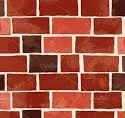brick: (51, 17, 92, 35), (51, 91, 91, 109), (74, 36, 115, 53), (12, 17, 50, 35), (38, 73, 77, 90), (83, 54, 119, 72), (12, 91, 50, 108), (39, 1, 78, 16), (29, 54, 58, 72), (43, 35, 73, 52), (7, 73, 37, 90), (79, 73, 109, 90), (93, 92, 123, 109), (1, 55, 28, 73), (93, 17, 121, 34), (6, 1, 37, 16), (80, 1, 110, 16), (22, 35, 42, 53), (60, 54, 80, 72), (1, 36, 20, 54), (74, 110, 115, 118), (43, 110, 73, 118), (111, 1, 124, 16), (22, 109, 42, 118), (1, 110, 21, 118), (1, 17, 10, 34)
